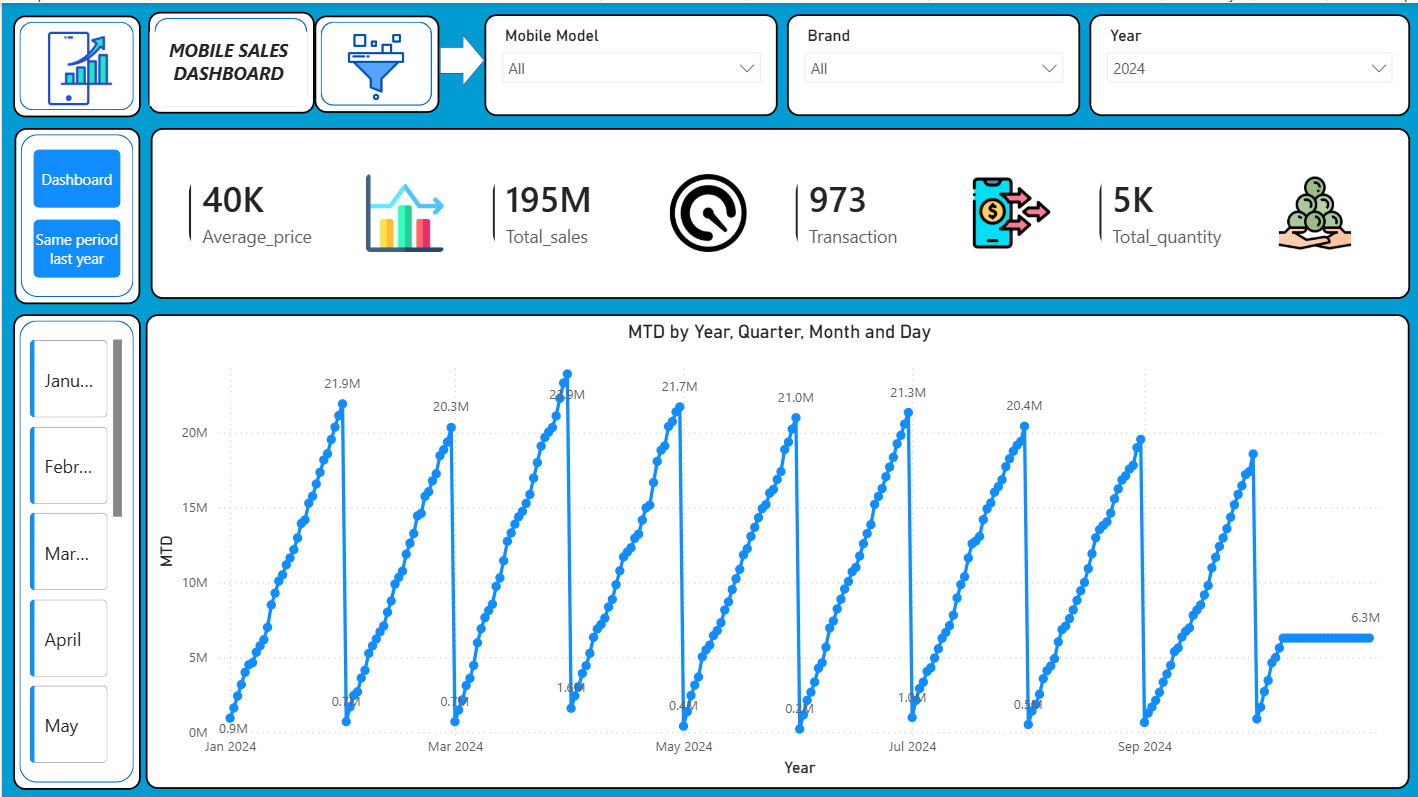

The page's visual inventory and layout, read from the dashboard file:
{"tool":"powerbi","page":{"name":"MTD","canvas":[1280,720],"ordinal":1},"visuals":[{"type":"shape","box":[9.6,11,115.3,91.9],"z":0},{"type":"shape","box":[11,112.5,113.9,159.2],"z":1000},{"type":"cardVisual","fields":{"Data":["Sheet1.average_price","Sheet1.total_sales","Sheet1.transaction","Sheet1.Total_quantity"]},"box":[134.9,112.8,1137.2,154.7],"z":2000},{"type":"slicer","fields":{"Values":["Sheet1.Mobile Model"]},"box":[436,10.5,265.1,91.9],"z":3000},{"type":"slicer","fields":{"Values":["Sheet1.Brand"]},"box":[709.3,10.5,265.1,91.9],"z":4000},{"type":"slicer","fields":{"Values":["Query1.Date.Variation.Date Hierarchy.Year"]},"box":[982.6,10.5,289.5,91.9],"z":5000},{"type":"shape","box":[282.7,11,112.5,87.8],"z":6000},{"type":"image","box":[295,27.4,86.4,61.7],"z":7000},{"type":"shape","box":[395.2,27.4,41.2,49.4],"z":8000},{"type":"shape","box":[132.6,8.1,150,91.9],"z":9000},{"type":"textbox","box":[133.1,26.1,142.7,67.2],"z":10000},{"type":"lineChart","fields":{"Y":["Sheet1.MTD"],"Category":["Query1.Date.Variation.Date Hierarchy.Year","Query1.Date.Variation.Date Hierarchy.Quarter","Query1.Date.Variation.Date Hierarchy.Month","Query1.Date.Variation.Date Hierarchy.Day"]},"box":[130.2,281.4,1141.9,429.1],"z":11000},{"type":"shape","box":[9.6,281.3,115.3,429.5],"z":12000},{"type":"advancedSlicerVisual","fields":{"Values":["Query1.Date.Variation.Date Hierarchy.Month"]},"box":[20.6,299.1,93.3,395.2],"z":13000},{"type":"pageNavigator","box":[28.2,132.1,79,116.3],"z":13001},{"type":"image","box":[15.8,26,109.5,66.6],"z":13002}]}

Visuals, with their boxes in screenshot pixels (x1, y1, x2, y2), scaled from the page's 1280x720 canvas onto the 1418x797 screenshot:
shape: <bbox>11, 12, 138, 114</bbox>
shape: <bbox>12, 125, 138, 301</bbox>
cardVisual - Sheet1.average_price x Sheet1.total_sales: <bbox>149, 125, 1409, 296</bbox>
slicer - Sheet1.Mobile Model: <bbox>483, 12, 777, 113</bbox>
slicer - Sheet1.Brand: <bbox>786, 12, 1079, 113</bbox>
slicer - Query1.Date.Variation.Date Hierarchy.Year: <bbox>1089, 12, 1409, 113</bbox>
shape: <bbox>313, 12, 438, 109</bbox>
image: <bbox>327, 30, 423, 99</bbox>
shape: <bbox>438, 30, 483, 85</bbox>
shape: <bbox>147, 9, 313, 111</bbox>
textbox: <bbox>147, 29, 306, 103</bbox>
lineChart - Sheet1.MTD x Query1.Date.Variation.Date Hierarchy.Year: <bbox>144, 311, 1409, 786</bbox>
shape: <bbox>11, 311, 138, 787</bbox>
advancedSlicerVisual - Query1.Date.Variation.Date Hierarchy.Month: <bbox>23, 331, 126, 769</bbox>
pageNavigator: <bbox>31, 146, 119, 275</bbox>
image: <bbox>18, 29, 139, 103</bbox>
